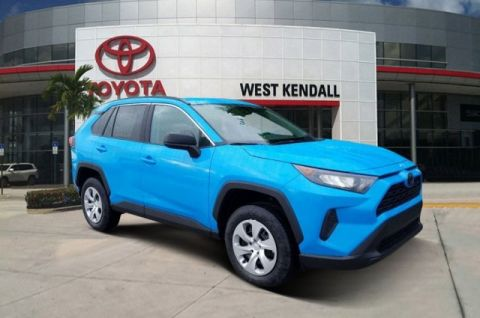Toyota RAV-4: (67, 95, 424, 289)
